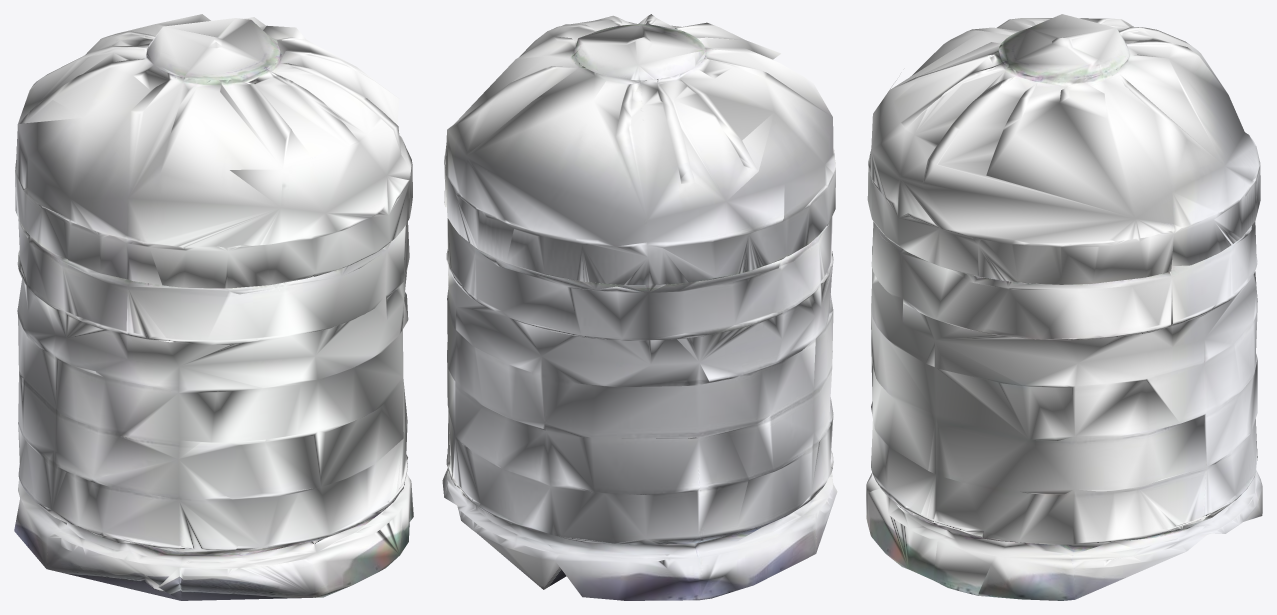
File: tank.glb
3 renders of one model, left to right at view 1: azimuth 30°, elevation 25°; view 2: azimuth 150°, elevation 25°; view 3: azimuth 270°, elevation 25°, orthographic.
Visible parts, largest first — view 1: Mesh_0; view 2: Mesh_0; view 3: Mesh_0.
Part boxes in pixels (left/top/right/bottom): Mesh_0: left=14, top=14, right=413, bottom=600; Mesh_0: left=442, top=14, right=837, bottom=600; Mesh_0: left=866, top=14, right=1262, bottom=600.
Bounding box in the file's own units: 0.7389 × 1 × 0.7393.
Materials: 1 (1 with a texture image).
